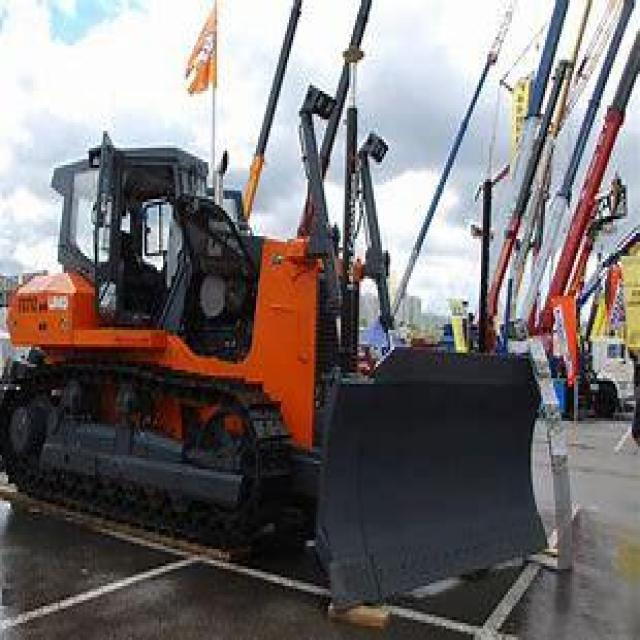Bulldozer: (0, 91, 609, 612)
